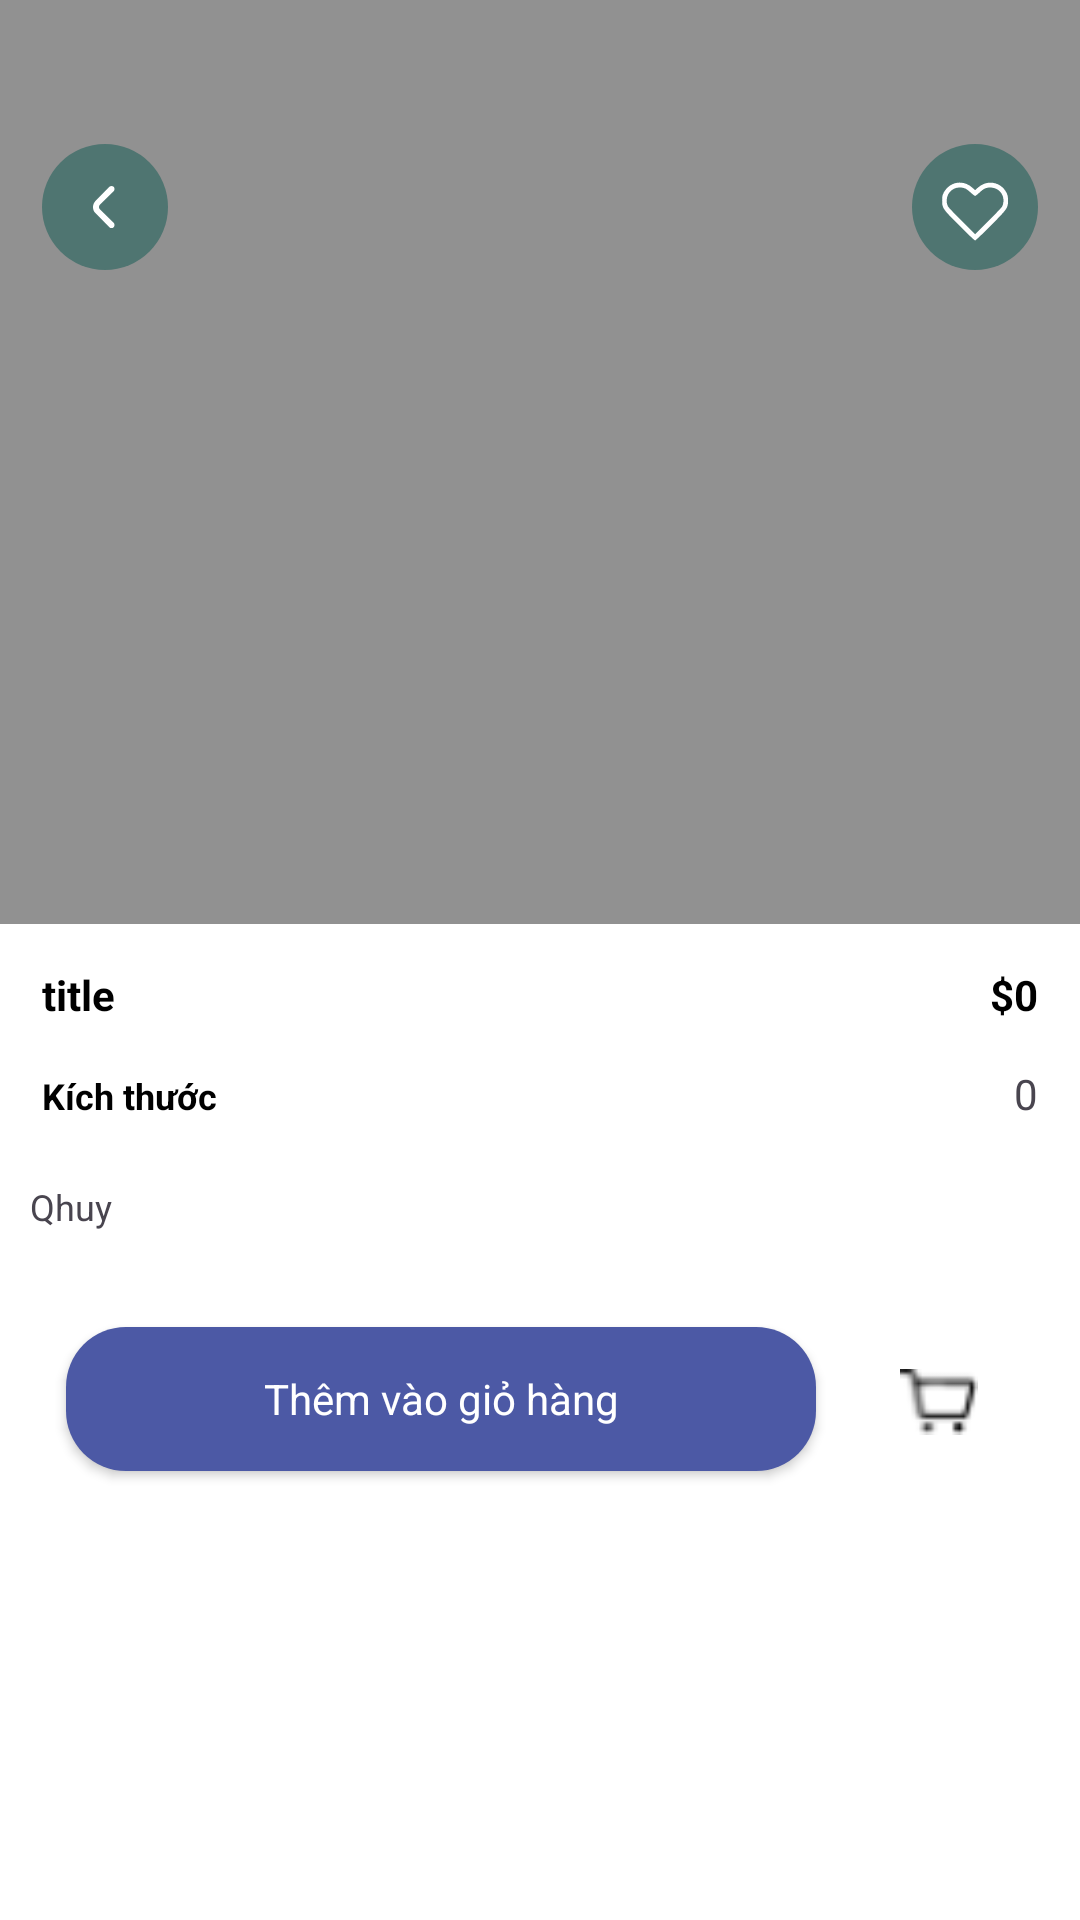

Locate icon controls on the screen. Image size 1080*1920, boxes as [left=x1, top=y1, right=x2, bottom=y2].
back: [left=42, top=144, right=168, bottom=270]
fav: [left=912, top=144, right=1038, bottom=270]
